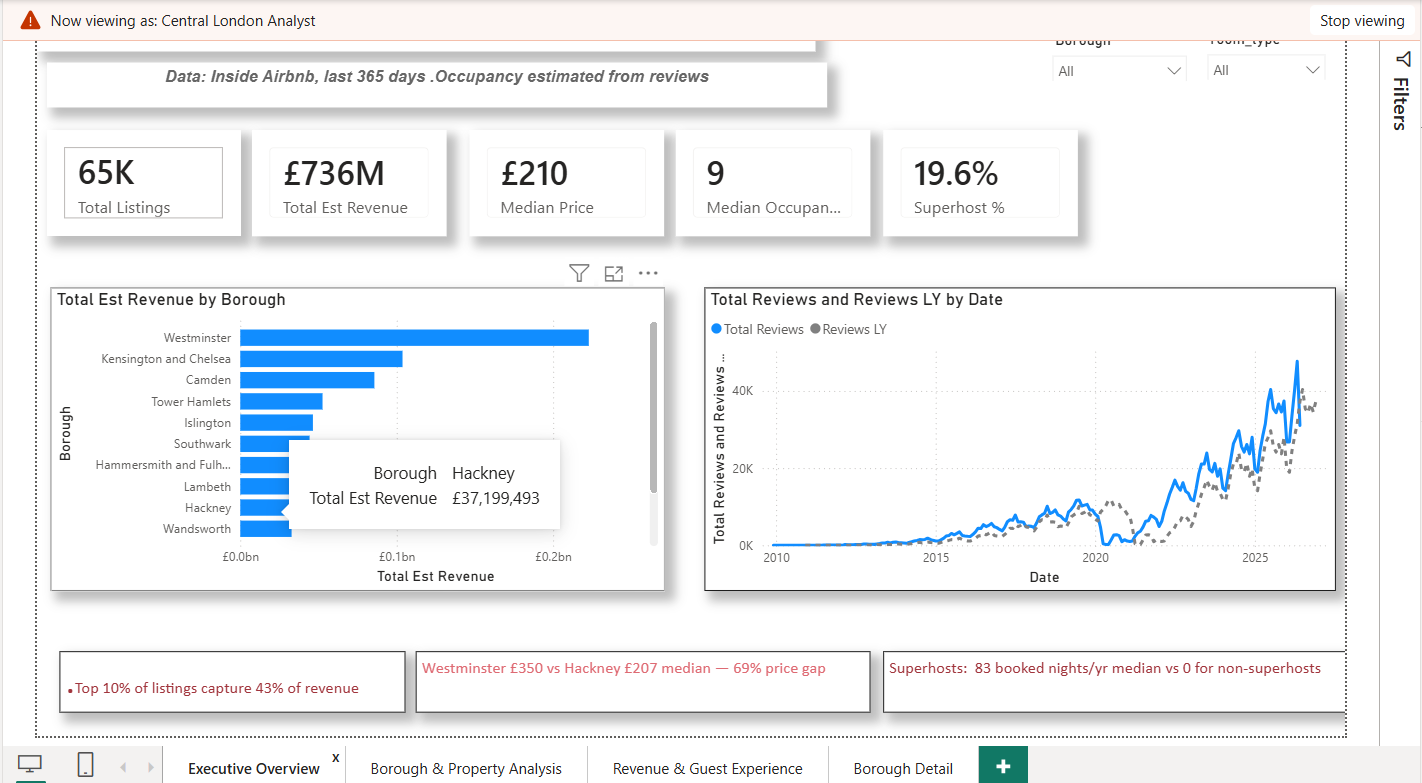

The dashboard page shown, as its layout file describes it:
{"tool":"powerbi","page":{"name":"Executive Overview","canvas":[1280,720],"ordinal":0},"visuals":[{"type":"textbox","box":[0,0,761.6,50.8],"z":0},{"type":"textbox","box":[9.8,61.1,763,44],"z":1000},{"type":"cardVisual","fields":{"Data":["Measures (2).Total Listings"]},"box":[9.8,127.2,189.5,103.9],"z":2000},{"type":"cardVisual","fields":{"Data":["Measures (2).Total Est Revenue"]},"box":[210.3,127.2,190.8,103.9],"z":3000},{"type":"cardVisual","fields":{"Data":["Measures (2).Median Price"]},"box":[423.1,127.2,190.8,103.9],"z":4000},{"type":"cardVisual","fields":{"Data":["Measures (2).Median Occupancy"]},"box":[624.9,127.2,190.8,103.9],"z":5000},{"type":"cardVisual","fields":{"Data":["Measures (2).Superhost %"]},"box":[827.9,127.2,190.8,103.9],"z":6000},{"type":"clusteredBarChart","fields":{"Category":["listings_clean.Borough"],"Y":["Measures (2).Total Est Revenue"]},"box":[13.5,281.3,600.4,297.1],"z":7000},{"type":"lineChart","fields":{"Category":["DimDate.Date"],"Y":["Measures (2).Total Reviews","Measures (2).Reviews LY"]},"box":[653,281.3,617.5,297.1],"z":8000},{"type":"textbox","box":[22,637.1,338.7,59.9],"z":9000},{"type":"textbox","box":[370.5,637.1,445.1,59.9],"z":10000},{"type":"textbox","box":[827.9,637.1,452.4,59.9],"z":11000},{"type":"slicer","fields":{"Values":["listings_clean.room_type"]},"box":[1134.8,24.5,135.7,53.8],"z":12000},{"type":"slicer","fields":{"Values":["listings_clean.Borough"]},"box":[983.2,25.7,151.6,53.8],"z":13000}]}

Visuals, with their boxes in screenshot pixels (x1, y1, x2, y2):
textbox: x1=26, y1=0, x2=812, y2=45
textbox: x1=36, y1=56, x2=824, y2=101
cardVisual - Measures (2).Total Listings: x1=36, y1=124, x2=232, y2=231
cardVisual - Measures (2).Total Est Revenue: x1=243, y1=124, x2=440, y2=231
cardVisual - Measures (2).Median Price: x1=463, y1=124, x2=660, y2=231
cardVisual - Measures (2).Median Occupancy: x1=671, y1=124, x2=868, y2=231
cardVisual - Measures (2).Superhost %: x1=881, y1=124, x2=1078, y2=231
clusteredBarChart - listings_clean.Borough x Measures (2).Total Est Revenue: x1=40, y1=283, x2=660, y2=590
lineChart - DimDate.Date x Measures (2).Total Reviews: x1=700, y1=283, x2=1337, y2=590
textbox: x1=49, y1=650, x2=398, y2=712
textbox: x1=408, y1=650, x2=868, y2=712
textbox: x1=881, y1=650, x2=1348, y2=712
slicer - listings_clean.room_type: x1=1197, y1=18, x2=1337, y2=73
slicer - listings_clean.Borough: x1=1041, y1=19, x2=1197, y2=75
